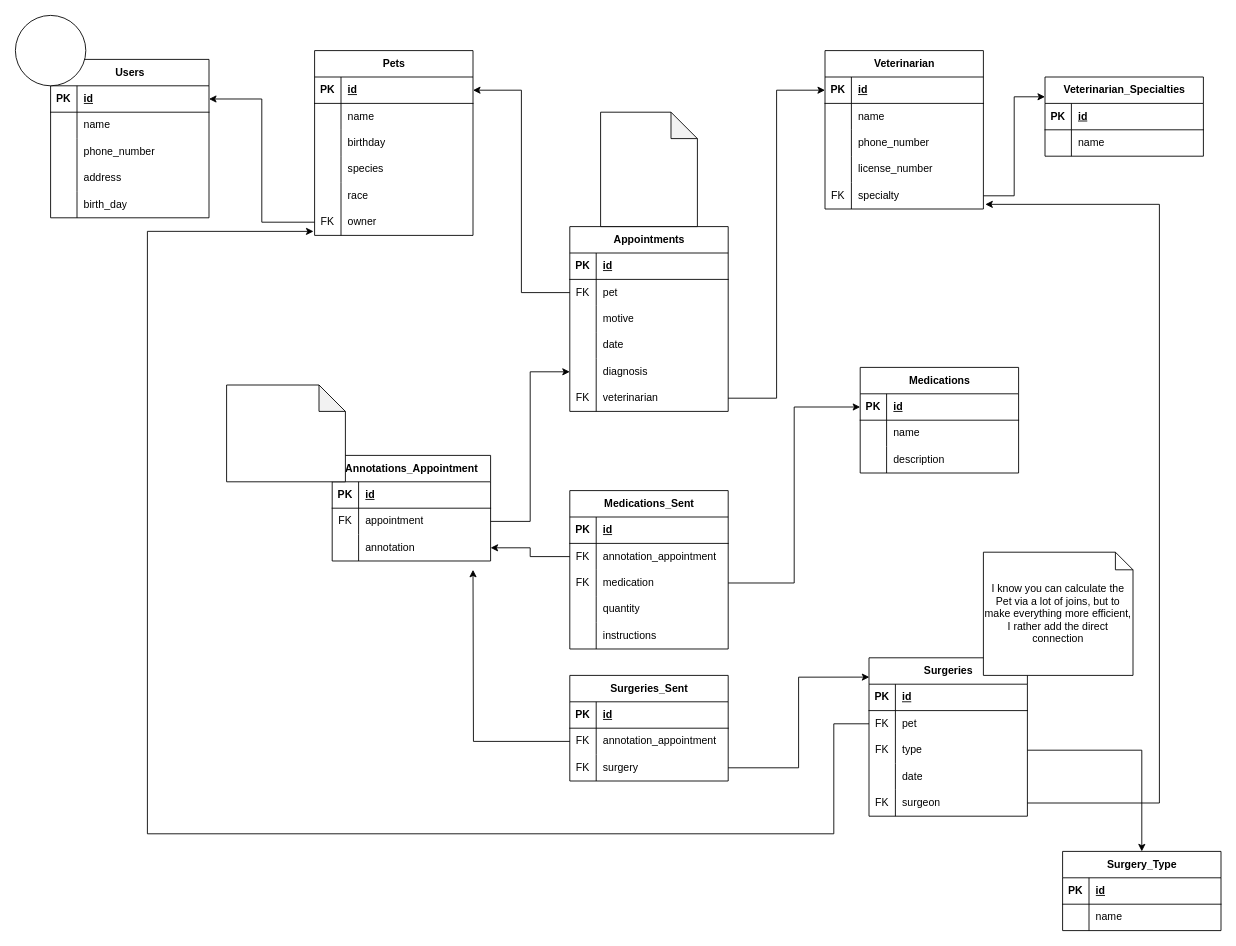
This 1236x946 diagram has some shape labels left out. Here are the shapes that lost their labels. From the top down, the centre of each, then its label:
the point at 648,169: Diagnosis is going to be a general conclusion from all the annotations
the point at 285,433: Django does not support multi primary key
